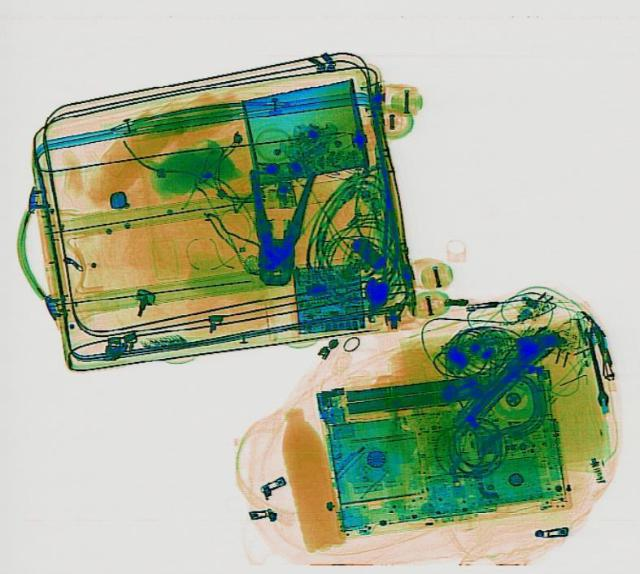Pliers: (238, 168, 318, 287)
